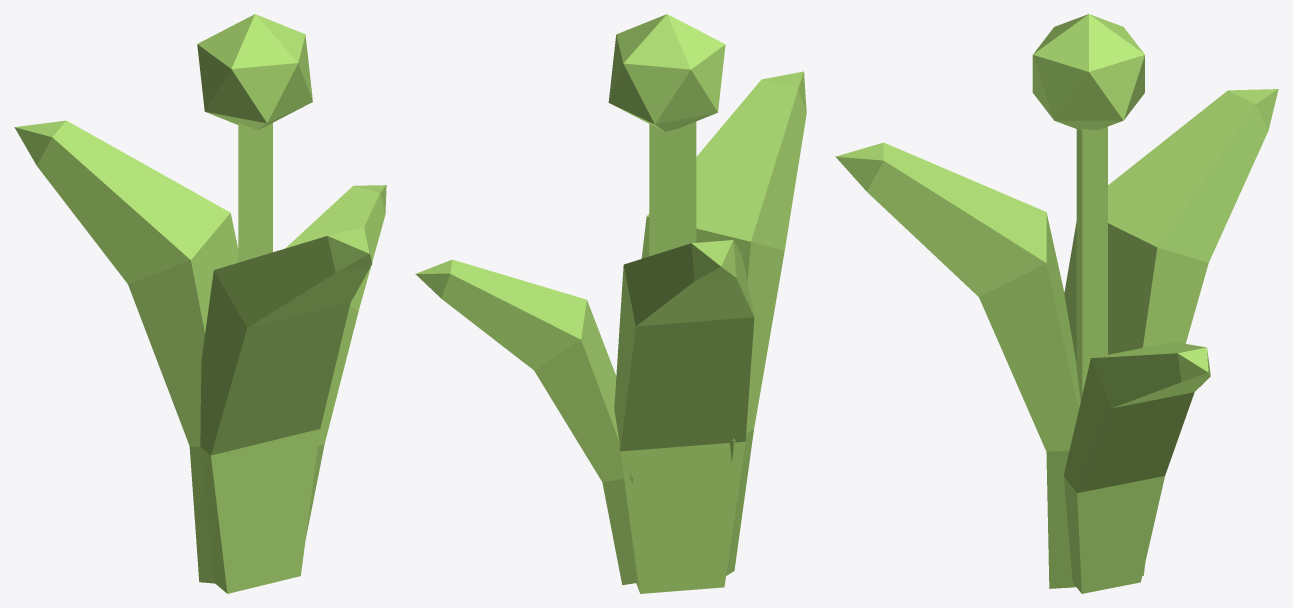
The model's file is flower_new.fbx.
3 views of the same model, side by side, from view 1: azimuth 30°, elevation 25°; view 2: azimuth 150°, elevation 25°; view 3: azimuth 270°, elevation 25° (orthographic).
Parts seen in each view (by area): view 1: flower.001; view 2: flower.001; view 3: flower.001.
Boxes of the visible parts, box(x1,y1,x2,y2) form: flower.001: box(14, 14, 386, 593); flower.001: box(415, 14, 806, 593); flower.001: box(835, 14, 1278, 593).
Size of the model in its own units: 59.89 by 93.97 by 67.2.
